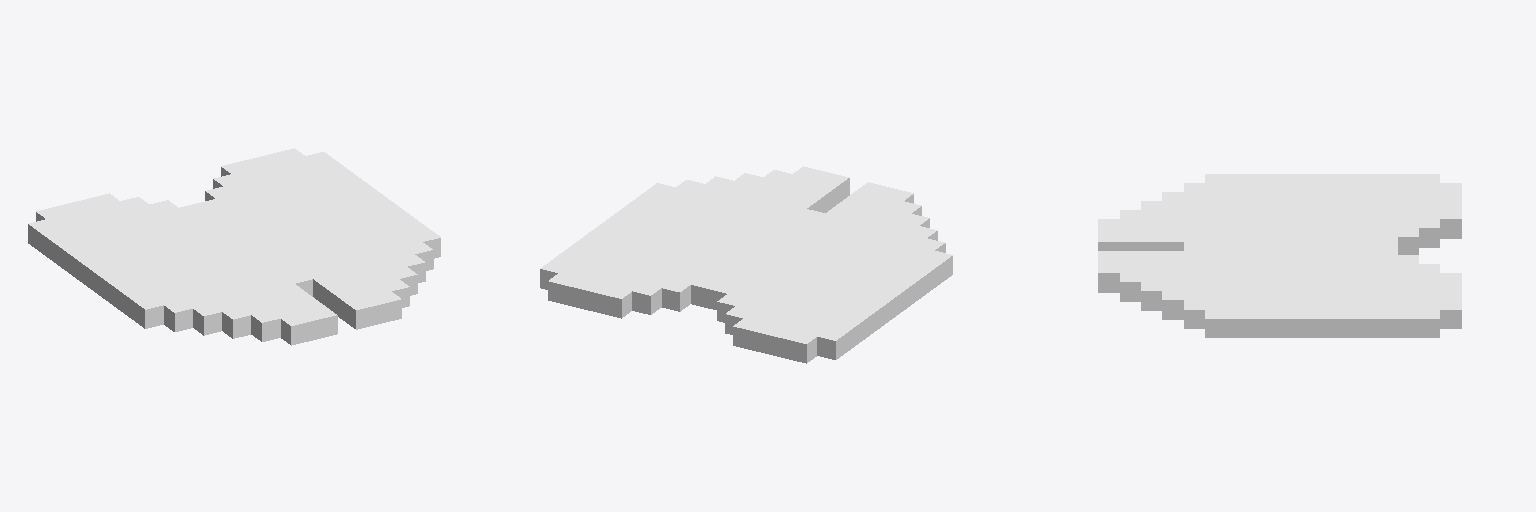
Rendered from Żabiściek.obj.
3 views of the same model, side by side, from view 1: azimuth 30°, elevation 25°; view 2: azimuth 150°, elevation 25°; view 3: azimuth 270°, elevation 25° (orthographic).
Visible parts, largest first — view 1: object 1; view 2: object 1; view 3: object 1.
Part boxes in pixels (x1,y1,x2,y2): object 1: (28, 148, 440, 345); object 1: (540, 166, 952, 363); object 1: (1098, 174, 1461, 337).
Size of the model in its own units: 3.2 by 0.2 by 3.4.